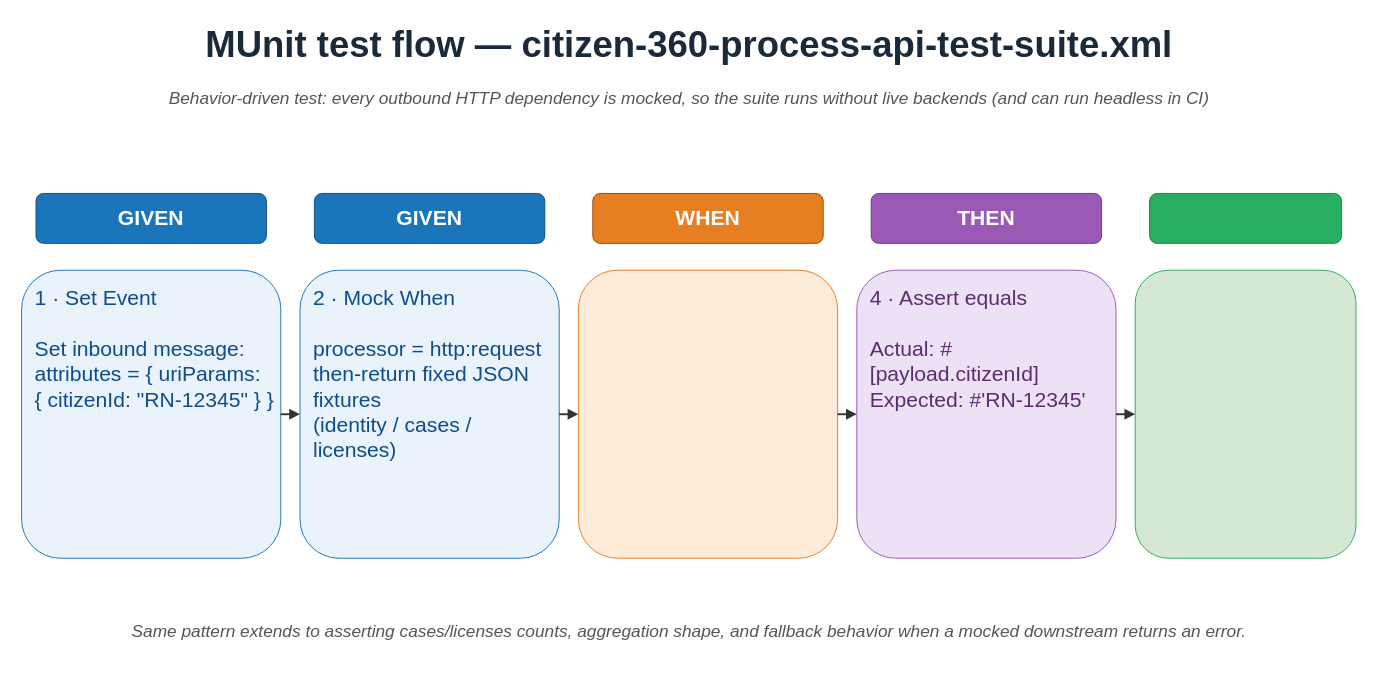
The diagram is 1377 pixels wide and 674 high, and some of its shapes have lost their labels. Here are the shapes that lost their labels. From the top down, the centre of each, then its label:
point 1245,217: RESULT
point 707,413: 3 · Run flow Execute the aggregate Scatter-Gather flow under test
point 1245,413: 5 · Test MUnit suite PASSES
